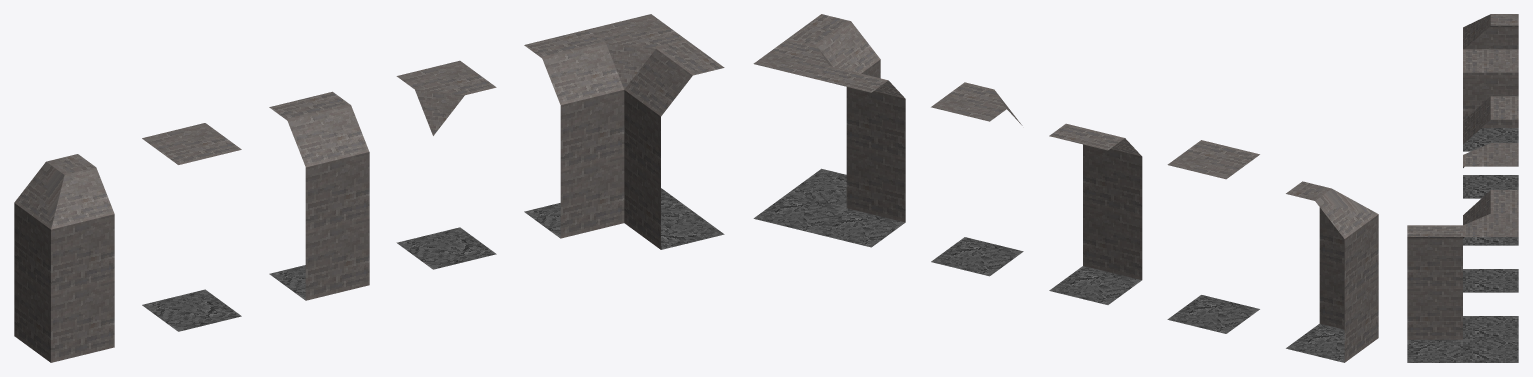
File: DungeonTileSet.glb
The picture shows the model from 3 angles, left to right: view 1: azimuth 30°, elevation 25°; view 2: azimuth 150°, elevation 25°; view 3: azimuth 270°, elevation 25°; orthographic projection. The views are drawn at different scales.
Visible parts, largest first — view 1: Full-Corner-col, Corner-in-col, Wall-col, Corner-out-col, floor-col; view 2: Full-Corner-col, Wall-col, Corner-in-col, floor-col, Corner-out-col; view 3: Full-Corner-col, Corner-in-col, Corner-out-col, floor-col, Wall-col.
Boxes of the visible parts, x1,y1,x2,y2 form: Full-Corner-col: [524, 14, 724, 249]; Corner-in-col: [14, 154, 114, 362]; Wall-col: [269, 91, 369, 300]; Corner-out-col: [396, 60, 496, 269]; floor-col: [142, 123, 241, 331]; Full-Corner-col: [753, 14, 905, 247]; Wall-col: [1049, 123, 1142, 304]; Corner-in-col: [1286, 181, 1378, 362]; floor-col: [1167, 140, 1259, 333]; Corner-out-col: [931, 82, 1023, 276]; Full-Corner-col: [1407, 190, 1518, 362]; Corner-in-col: [1463, 14, 1518, 151]; Corner-out-col: [1463, 143, 1518, 292]; floor-col: [1463, 49, 1518, 198]; Wall-col: [1463, 96, 1518, 245].
Bounding box in the file's own units: 10 × 2.5 × 2.
1 material, 1 textured.
